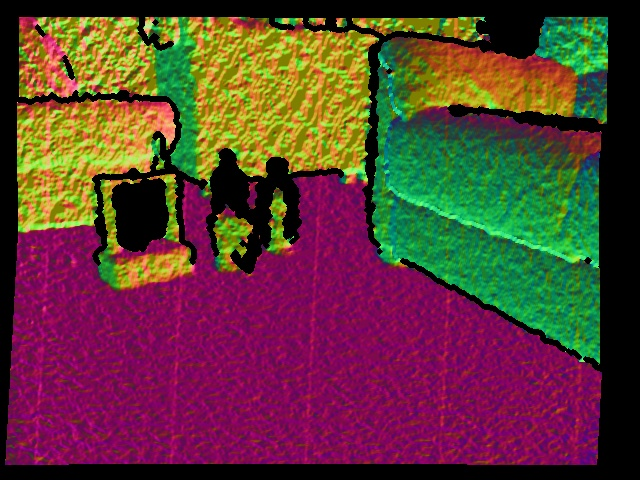station: (96, 171, 199, 289)
